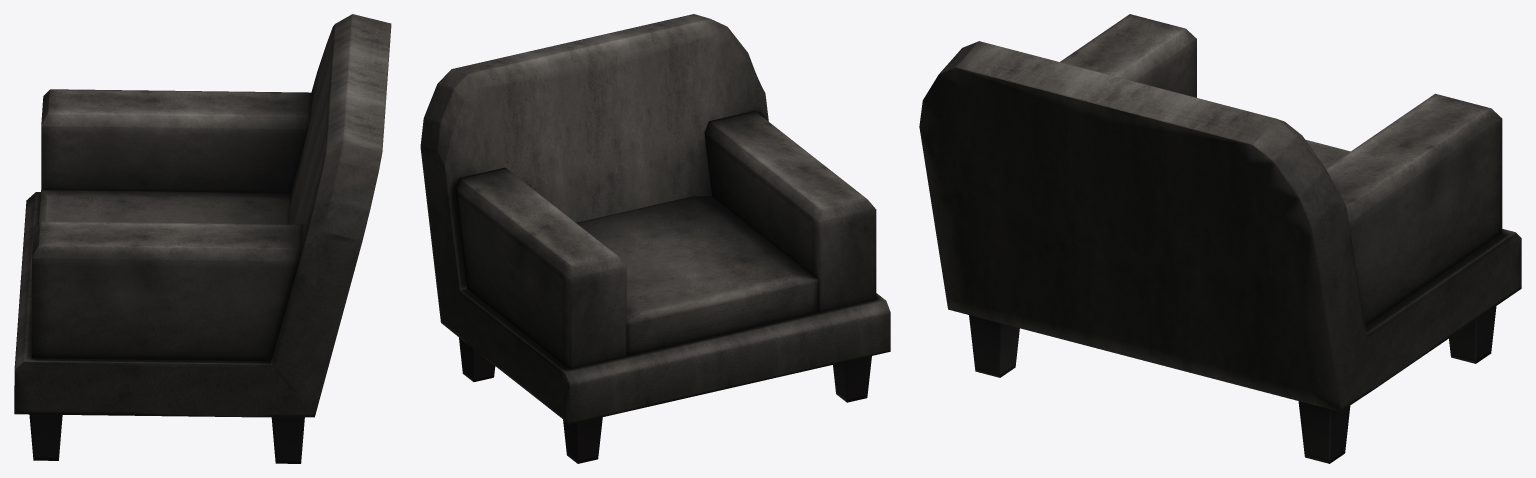
Rendered from chair.obj.
3 views of the same model, side by side, from view 1: azimuth 30°, elevation 25°; view 2: azimuth 150°, elevation 25°; view 3: azimuth 270°, elevation 25° (orthographic). The views are drawn at different scales.
Visible parts, largest first — view 1: chair; view 2: chair; view 3: chair.
Part boxes in pixels (bbox=[...]): chair: bbox=[14, 14, 391, 463]; chair: bbox=[420, 14, 890, 463]; chair: bbox=[919, 14, 1521, 463].
Size of the model in its own units: 196 by 131 by 202.
1 material, 1 textured.
